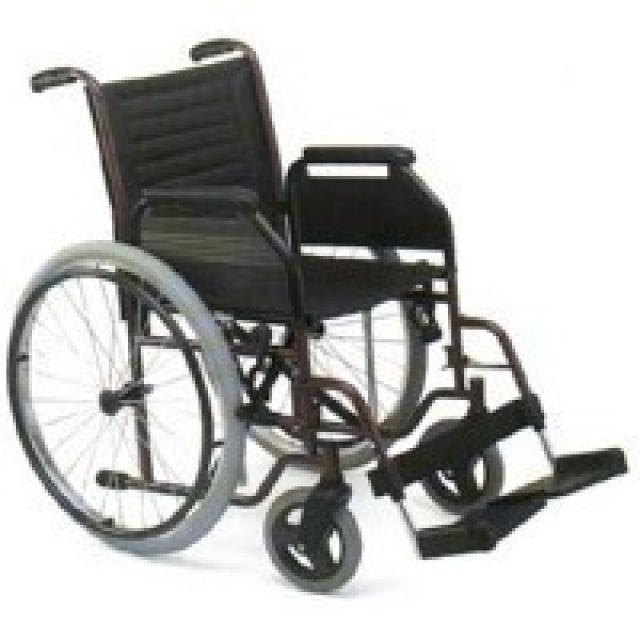wheelchair: (0, 30, 627, 602)
